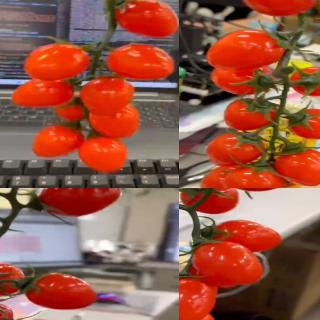tomato: (192, 240, 267, 288), (209, 30, 289, 71), (25, 272, 97, 312), (105, 42, 178, 80), (23, 41, 92, 80), (208, 220, 286, 254), (114, 0, 179, 40), (39, 188, 124, 216), (80, 76, 134, 117), (210, 65, 275, 97), (206, 134, 266, 168), (32, 123, 87, 160), (80, 136, 128, 176), (272, 146, 320, 185), (13, 78, 75, 108), (90, 102, 140, 138), (225, 99, 279, 132), (179, 188, 241, 215), (179, 277, 216, 320), (198, 163, 258, 188), (224, 166, 286, 188), (242, 0, 318, 17), (287, 107, 320, 139), (288, 67, 320, 97), (0, 262, 24, 296), (179, 311, 218, 320)
